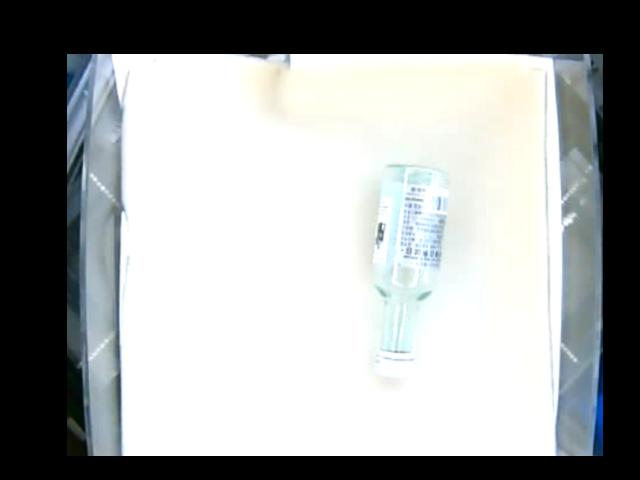Bottle: (370, 162, 449, 378)
